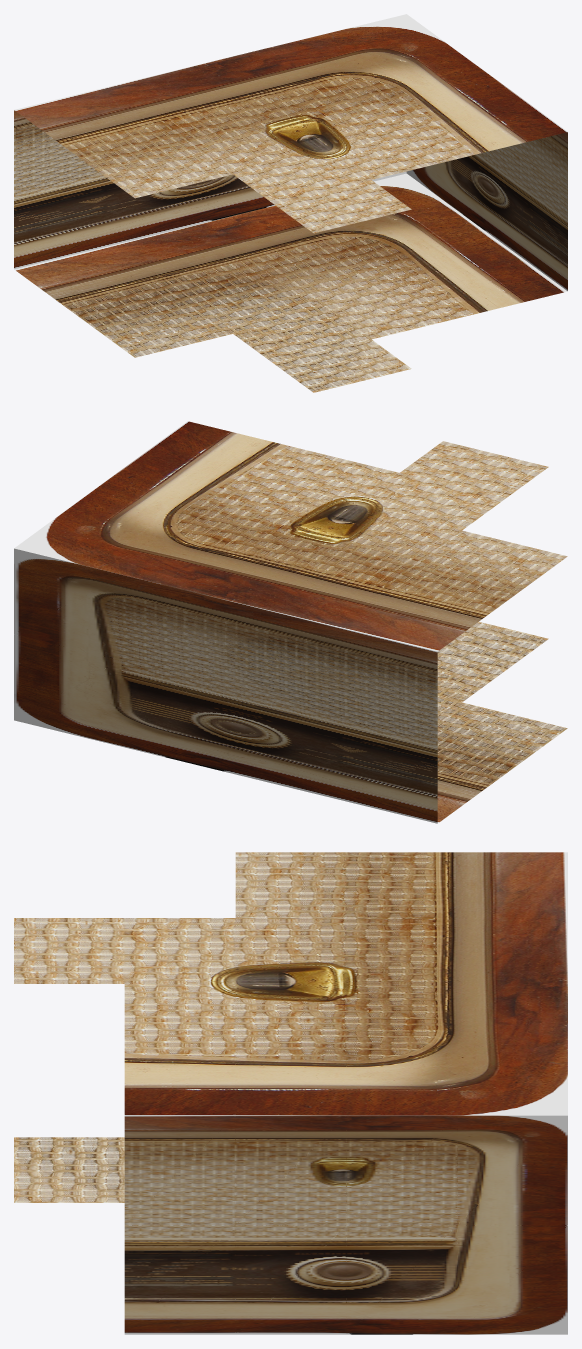
The model's file is Radio_02.FBX.
3 renders of one model, top to bottom at view 1: azimuth 30°, elevation 25°; view 2: azimuth 150°, elevation 25°; view 3: azimuth 270°, elevation 25°, orthographic. The views are drawn at different scales.
Parts seen in each view (by area): view 1: Object003; view 2: Object003; view 3: Object003.
Part boxes in pixels (x1=…): Object003: x1=14, y1=14, x2=567, y2=392; Object003: x1=14, y1=421, x2=567, y2=823; Object003: x1=14, y1=852, x2=567, y2=1334.
Size of the model in its own units: 57.66 by 22.36 by 51.24.
